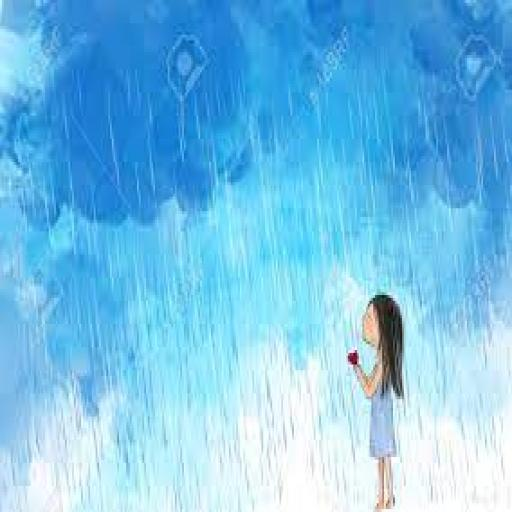person: (340, 290, 410, 509)
